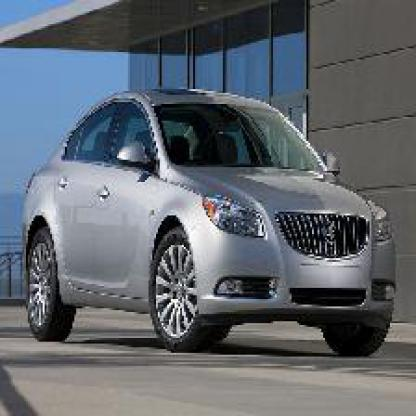not_emergency: (16, 78, 413, 362)
